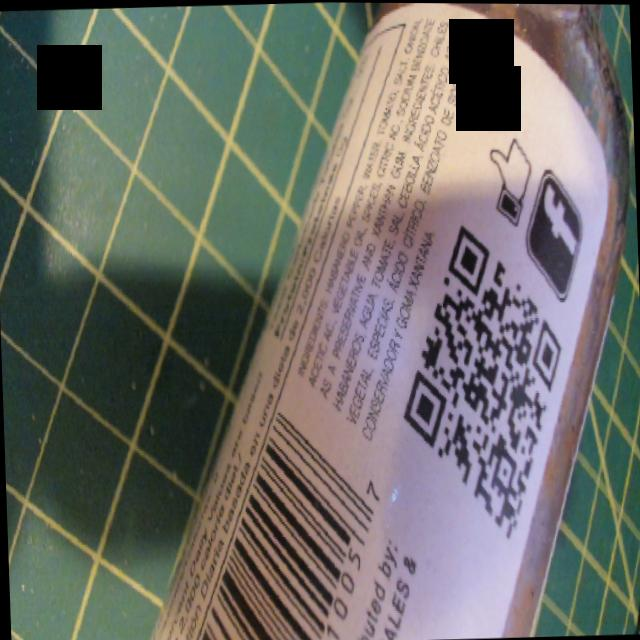QR_CODE: (385, 206, 579, 560)
